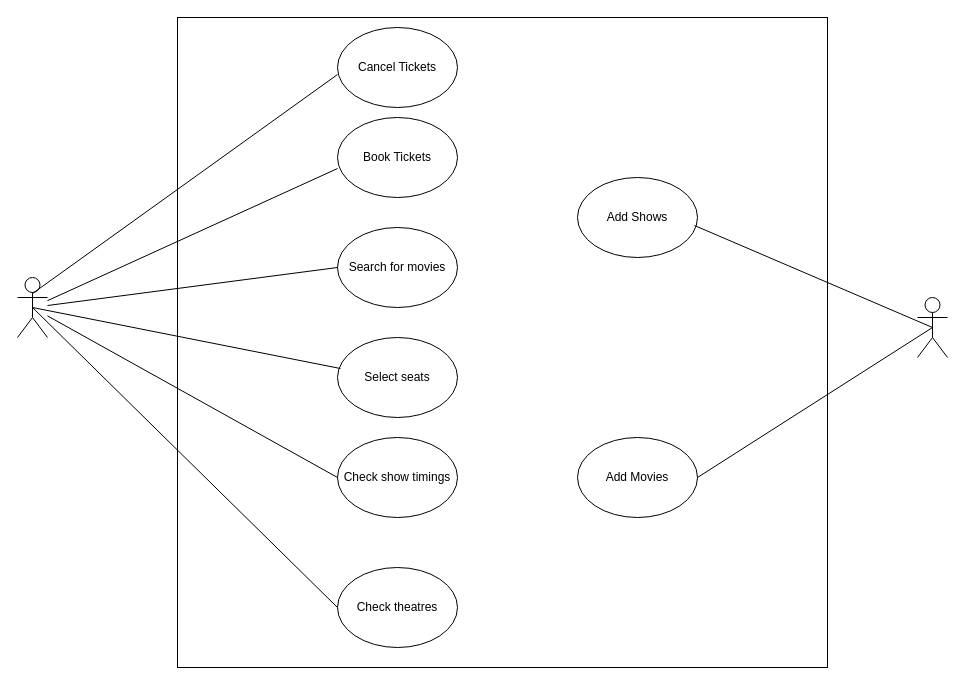
The diagram is 970 pixels wide and 685 high, and some of its shapes have lost their labels. Each missing label, with the box of its shape:
System: (916, 296, 948, 358)
User: (16, 276, 48, 338)
